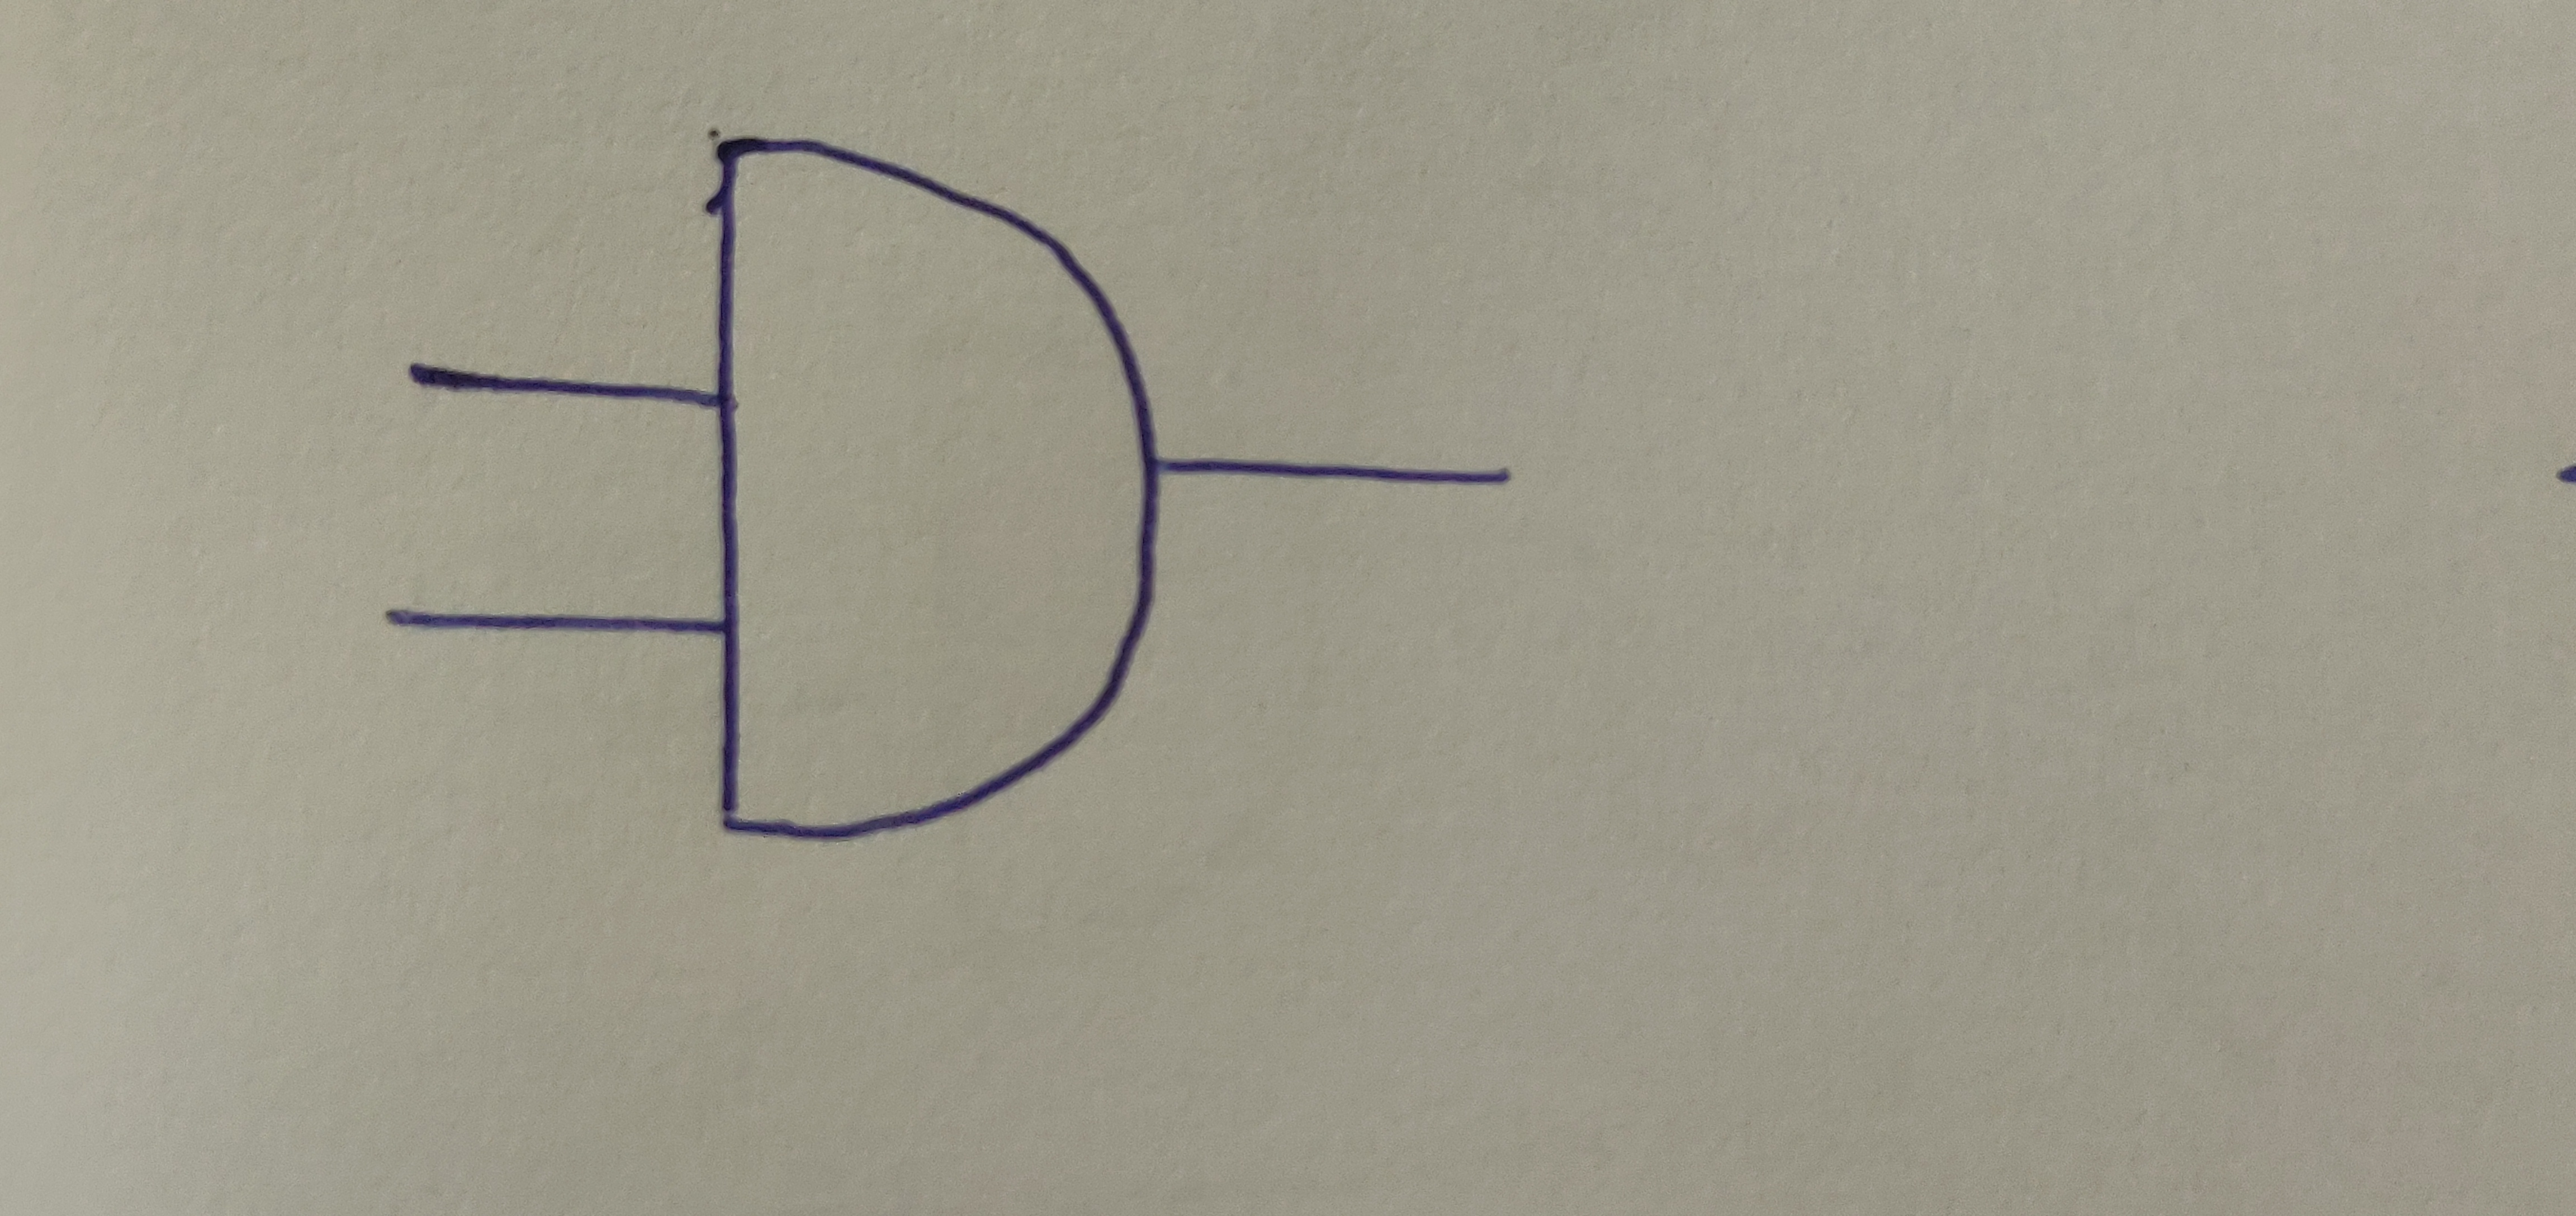and: (715, 135, 1161, 841)
